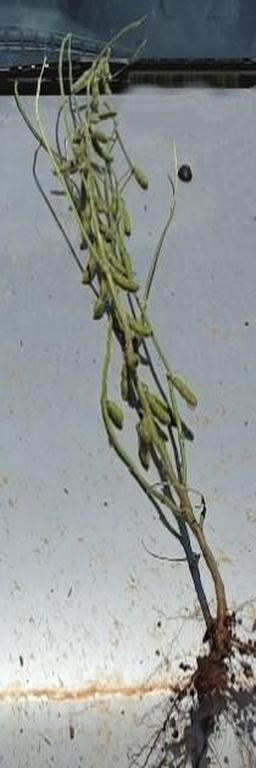pod: (172, 374, 203, 409), (146, 396, 173, 422), (104, 399, 128, 425), (110, 270, 138, 292), (134, 167, 150, 193), (120, 211, 132, 239)
soy: (15, 26, 240, 734)
